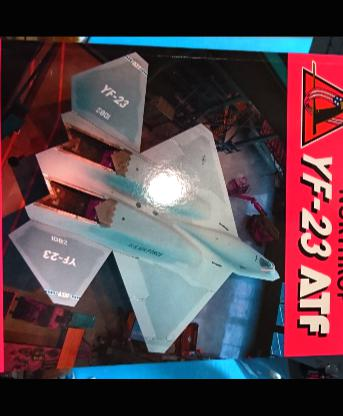US2: (8, 51, 281, 352)
